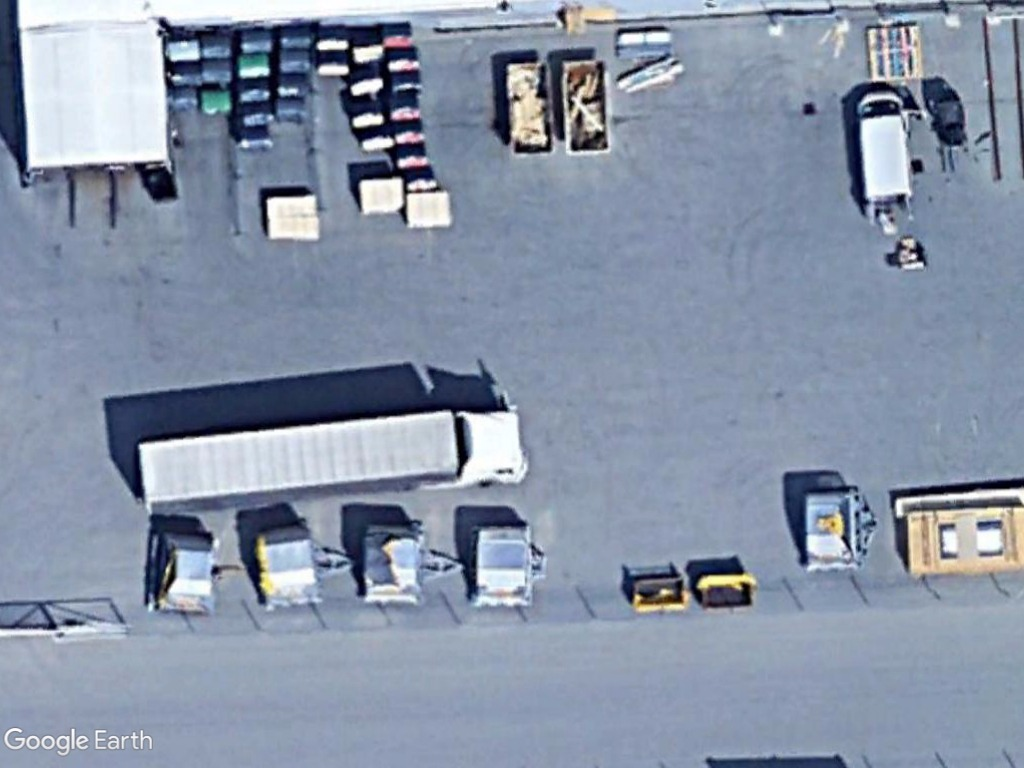longvehicle: (132, 403, 526, 520)
van: (852, 87, 917, 209)
